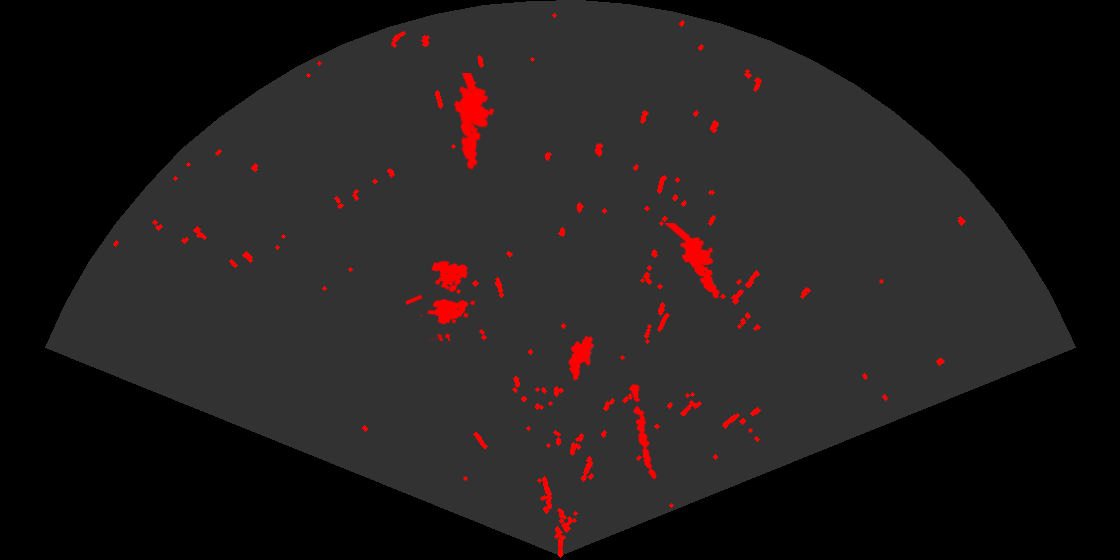AUV: (567, 334, 596, 382)
cage: (406, 259, 477, 341)
chain: (627, 381, 658, 481)
frogman: (663, 223, 721, 300), (452, 73, 496, 172)
